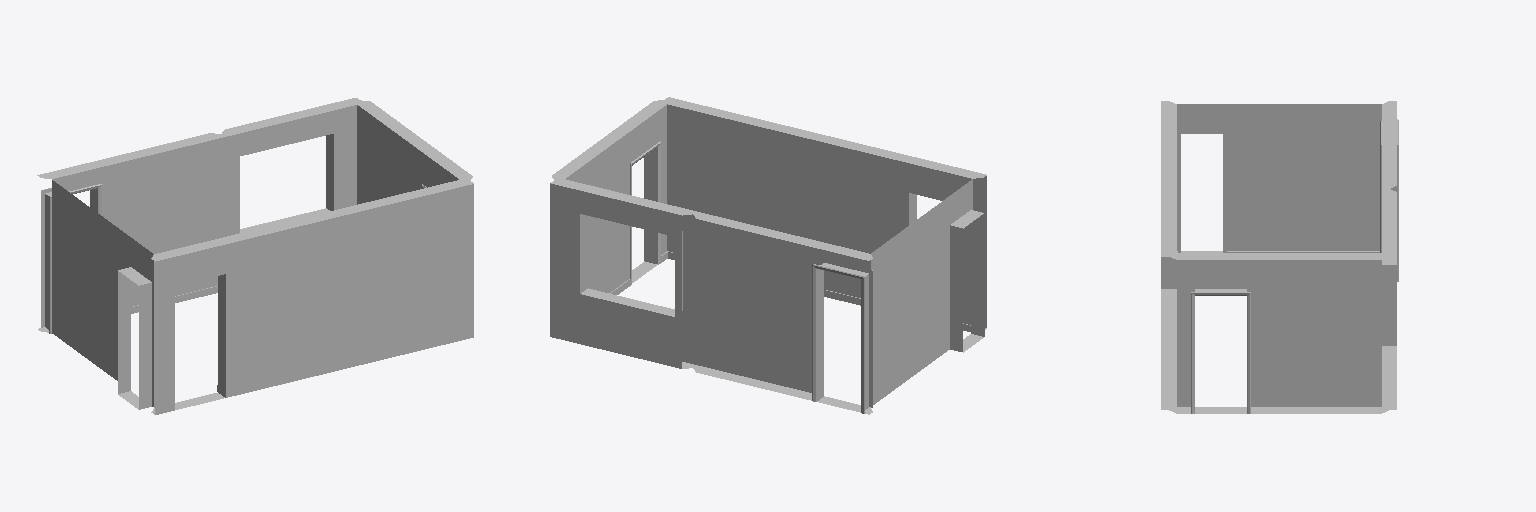
Rendered from LivingDiningRoom-14848w.obj.
3 views of the same model, side by side, from view 1: azimuth 30°, elevation 25°; view 2: azimuth 150°, elevation 25°; view 3: azimuth 270°, elevation 25° (orthographic).
Size of the model in its own units: 5.91 by 2.6 by 3.64.